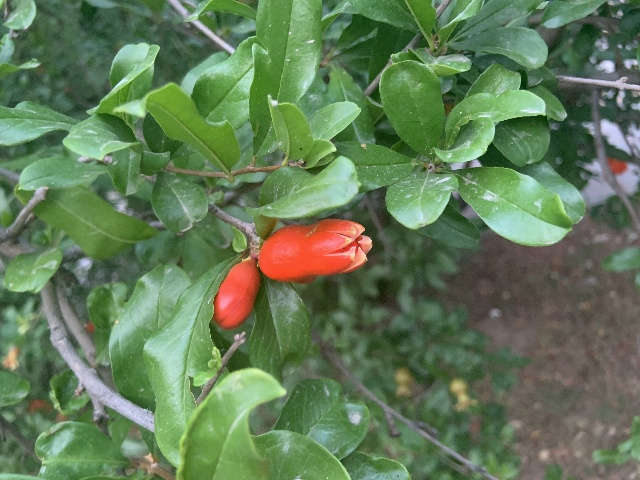bud: (212, 257, 260, 331)
flower: (262, 219, 371, 282), (606, 157, 627, 176)
mid-growth: (449, 377, 477, 412), (394, 368, 414, 397)
